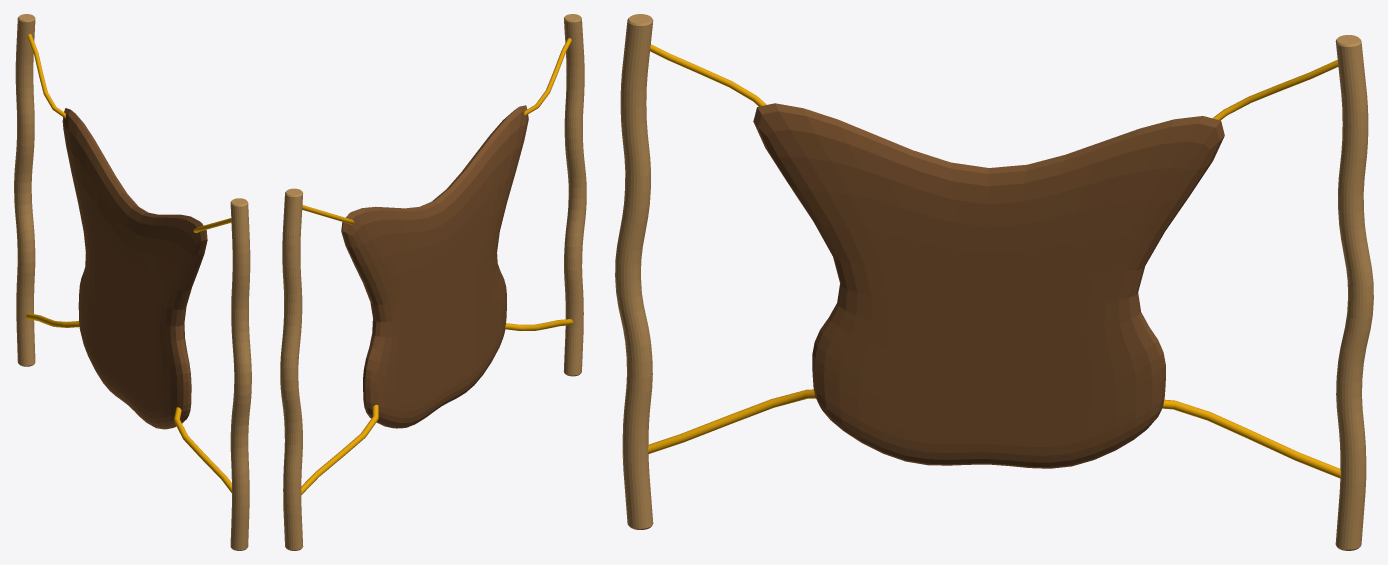
File: bear-skin.fbx
3 renders of one model, left to right at view 1: azimuth 30°, elevation 25°; view 2: azimuth 150°, elevation 25°; view 3: azimuth 270°, elevation 25°, orthographic. The views are drawn at different scales.
Visible parts, largest first — view 1: Plane, Cylinder.005, Cylinder.006, BezierCurve.001, BezierCurve; view 2: Plane, Cylinder.006, Cylinder.005, BezierCurve.001, BezierCurve; view 3: Plane, Cylinder.006, Cylinder.005, BezierCurve.001, BezierCurve.
Part boxes in pixels (bbox=[...]): Plane: bbox=[62, 108, 207, 429]; Cylinder.005: bbox=[230, 198, 251, 550]; Cylinder.006: bbox=[14, 14, 35, 366]; BezierCurve.001: bbox=[26, 313, 231, 492]; BezierCurve: bbox=[27, 34, 231, 232]; Plane: bbox=[341, 105, 528, 428]; Cylinder.006: bbox=[280, 188, 303, 550]; Cylinder.005: bbox=[563, 14, 586, 376]; BezierCurve.001: bbox=[301, 319, 573, 494]; BezierCurve: bbox=[302, 38, 571, 224]; Plane: bbox=[753, 103, 1224, 468]; Cylinder.006: bbox=[1335, 35, 1373, 550]; Cylinder.005: bbox=[615, 14, 653, 529]; BezierCurve.001: bbox=[622, 389, 1340, 478]; BezierCurve: bbox=[650, 44, 1338, 120].
Bounding box in the file's own units: 82.31 × 560 × 760.
